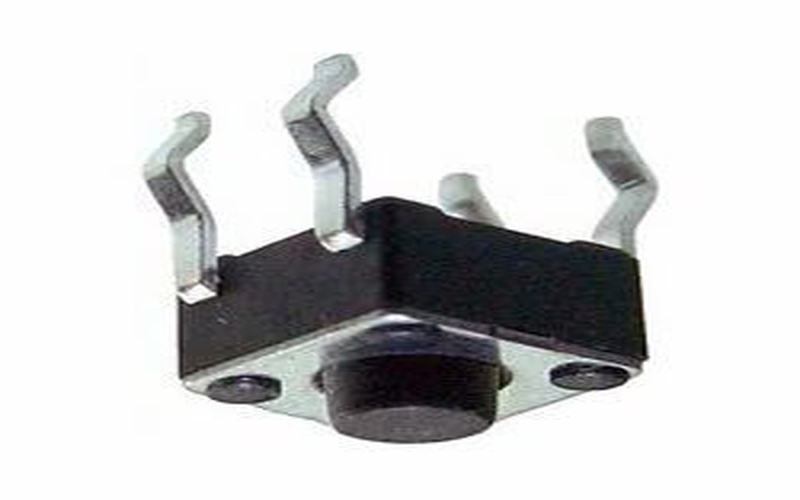Switches: (129, 42, 675, 471)
